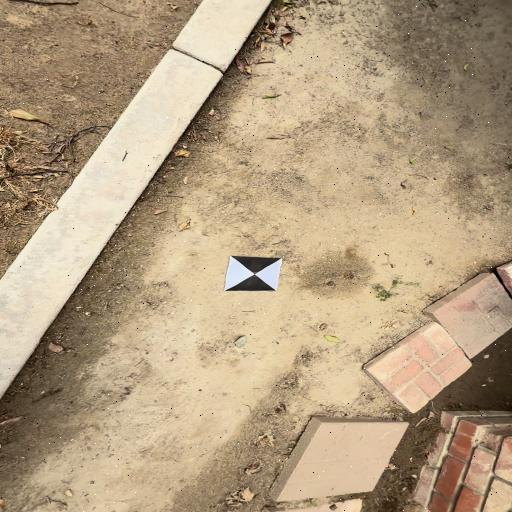target: (225, 255, 282, 291)
